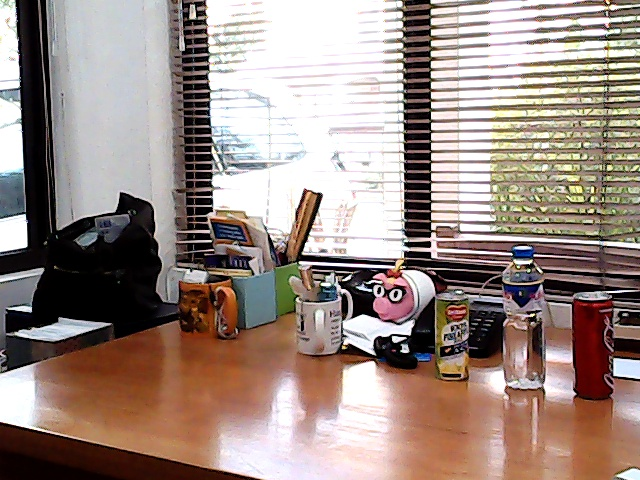Cola: (566, 281, 624, 409)
Pine Juice: (430, 286, 478, 391)
Summit Water: (496, 240, 557, 396)
